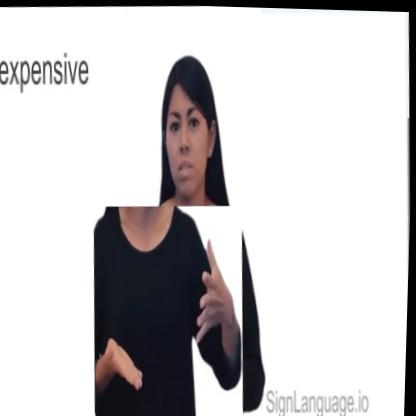Expensive: (89, 200, 250, 416)
